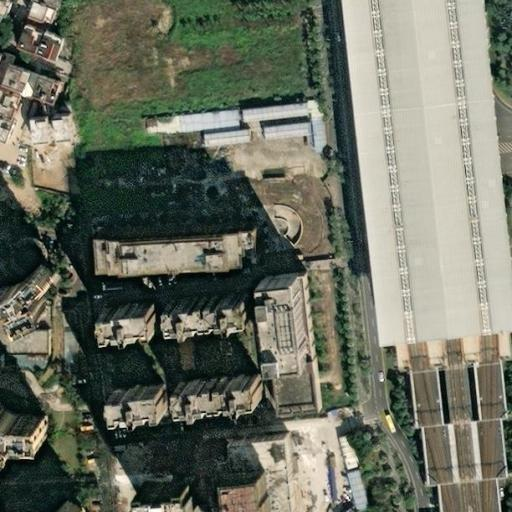building: (92, 225, 251, 273), (285, 279, 328, 420), (269, 280, 316, 381), (8, 270, 79, 329), (244, 449, 303, 512), (173, 290, 258, 332), (175, 371, 257, 410), (135, 110, 231, 136), (101, 384, 157, 421), (0, 312, 43, 355), (112, 307, 170, 338), (237, 102, 303, 126), (149, 485, 204, 512), (13, 241, 49, 278), (246, 476, 283, 512), (338, 470, 362, 512), (197, 127, 244, 147), (258, 122, 305, 141), (32, 79, 62, 107), (30, 30, 58, 60), (13, 22, 40, 52), (301, 101, 317, 149), (44, 495, 84, 512), (332, 437, 350, 473), (0, 270, 25, 289), (56, 121, 74, 146), (20, 101, 46, 118), (34, 123, 51, 148), (320, 470, 329, 504), (13, 117, 26, 135), (340, 507, 350, 512)
